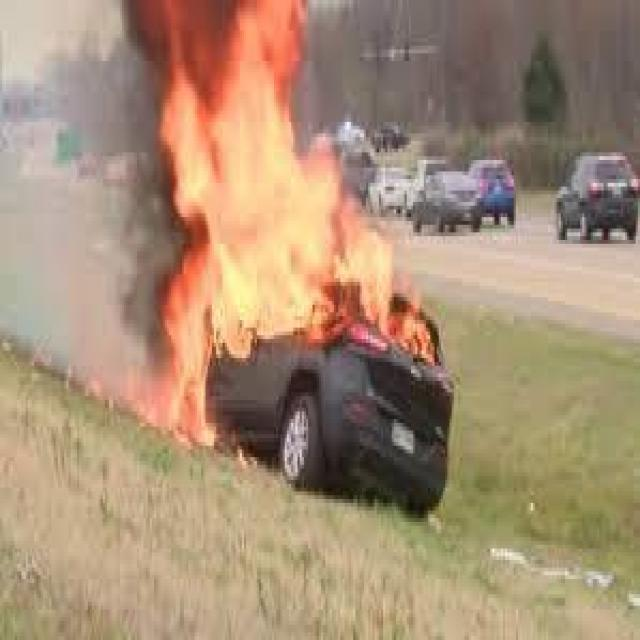fire: (162, 2, 438, 420)
smoke: (108, 5, 192, 348)
